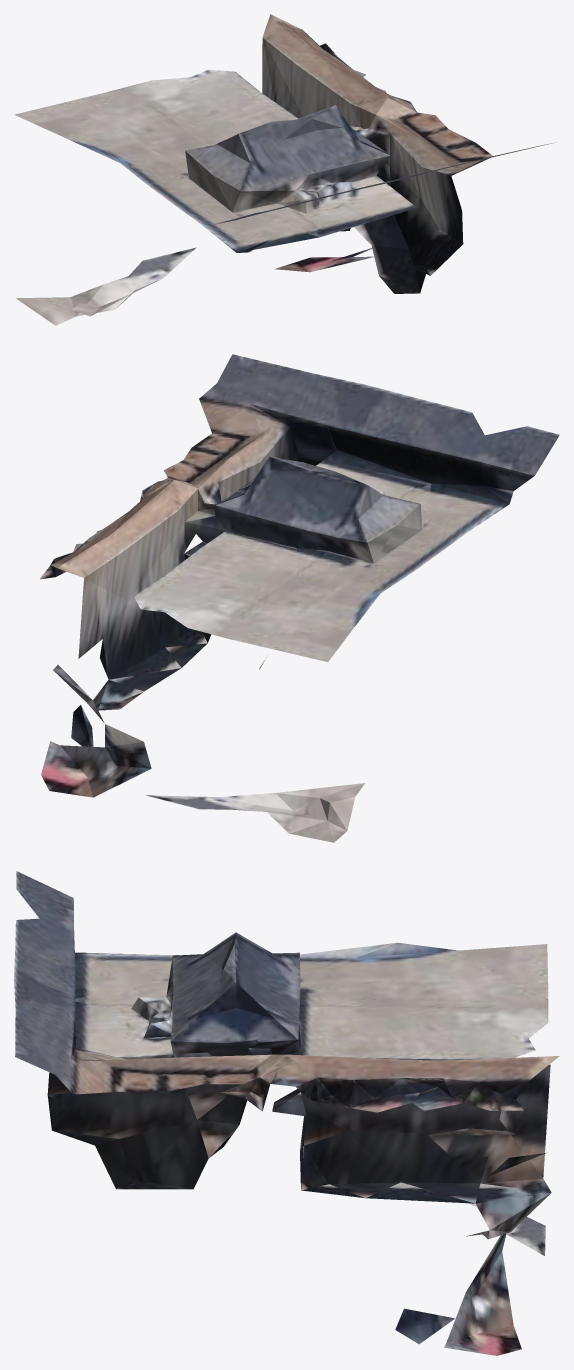
Rendered from Tile_+000_+001_L17_00.glb.
3 renders of one model, top to bottom at view 1: azimuth 30°, elevation 25°; view 2: azimuth 150°, elevation 25°; view 3: azimuth 270°, elevation 25°, orthographic. The views are drawn at different scales.
Size of the model in its own units: 49.16 by 37.71 by 59.43.
1 material, 1 textured.
